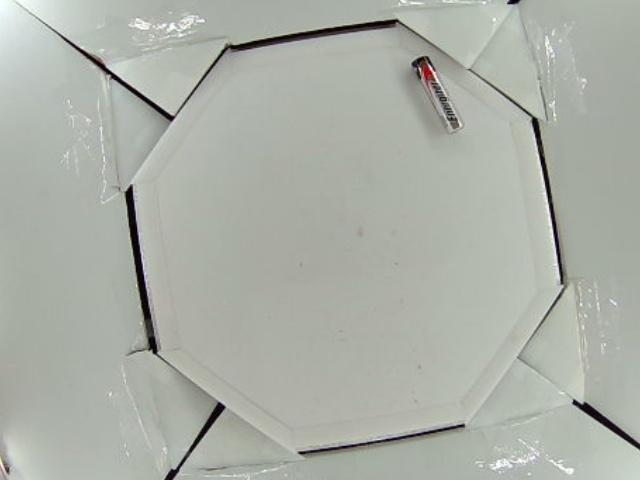Battery: (412, 56, 464, 135)
